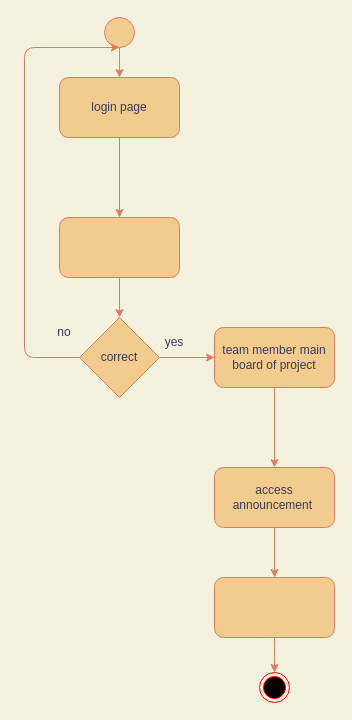
Some shapes in this 352 by 720 pixel diagram are drawn without their labels. The shapes that lost their labels are listed below. From the top down, each one's box as (x1, y1, x2, y2) in pixels, then its label:
(58, 216, 180, 278): enter credentials
(214, 576, 334, 638): view announcement
